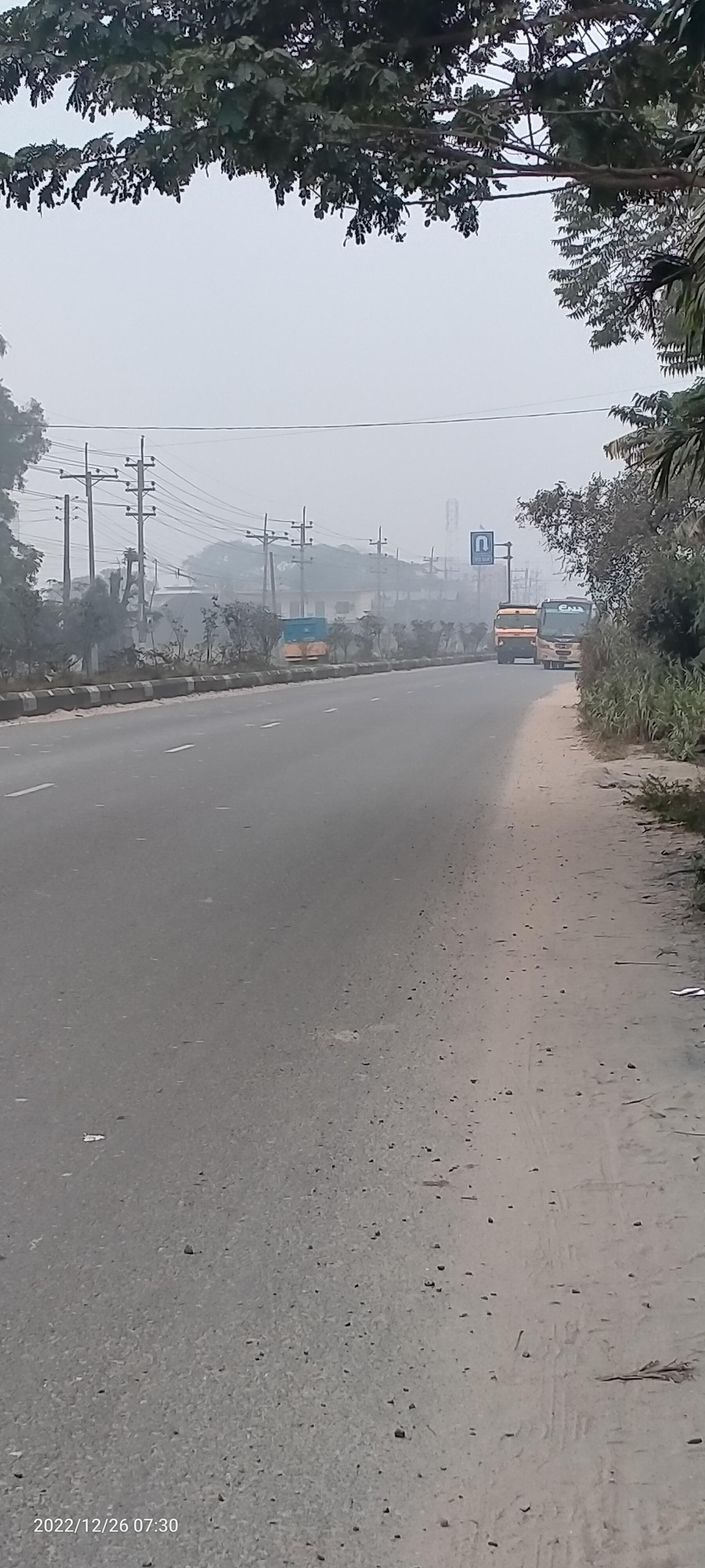Bus: (530, 594, 607, 670)
Truck: (264, 593, 343, 673), (486, 596, 543, 674)
